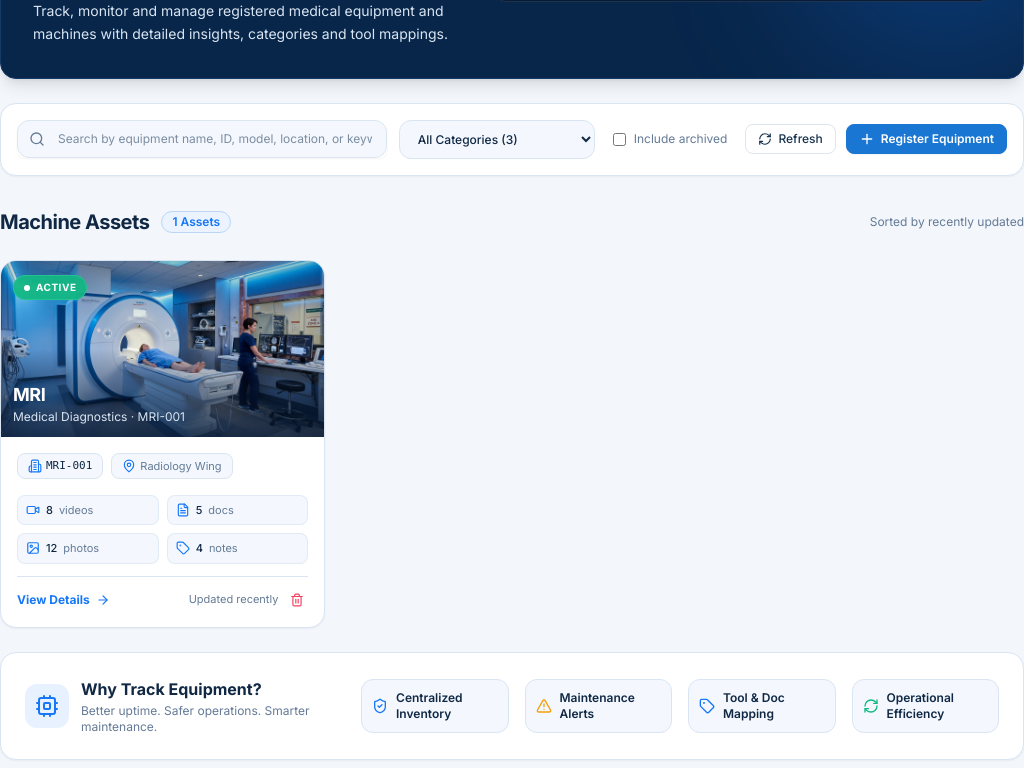
Machine deletion flow › shows a backend dependency error and keeps the machine visible
This screenshot has width=1024, height=768.
(page scrolled)
Expected: the heading "MRI" is shown, [13, 384, 45, 405]
Click the button named "Delete".
click(297, 600)  # box [286, 588, 308, 610]
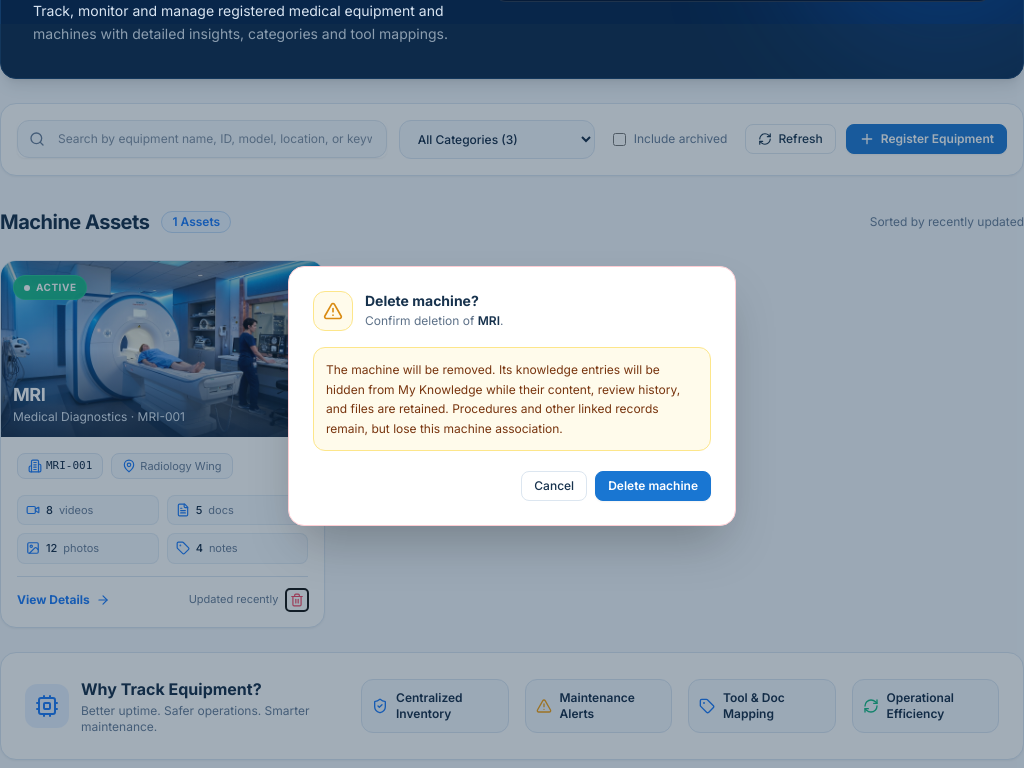
Click the button "Delete machine".
click(653, 486)  # box [595, 471, 711, 501]
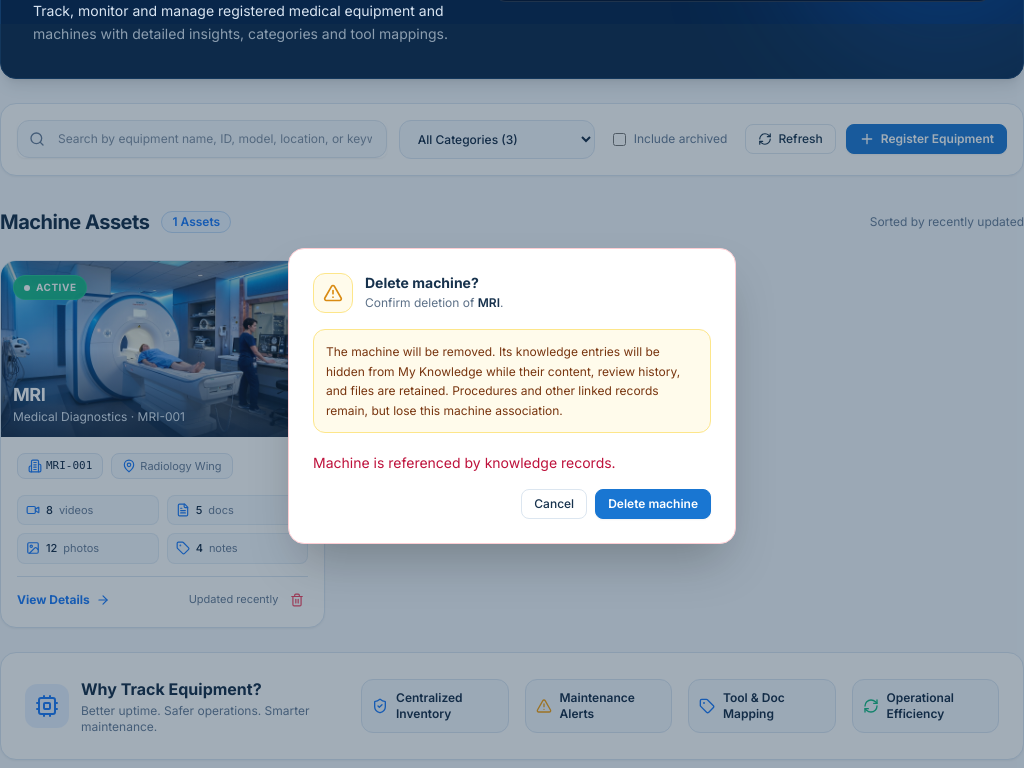
Expected: the heading "MRI" is shown, [13, 384, 45, 405]
Now the message reads "Machine is referenced by knowledge records.", box [313, 454, 616, 471]
